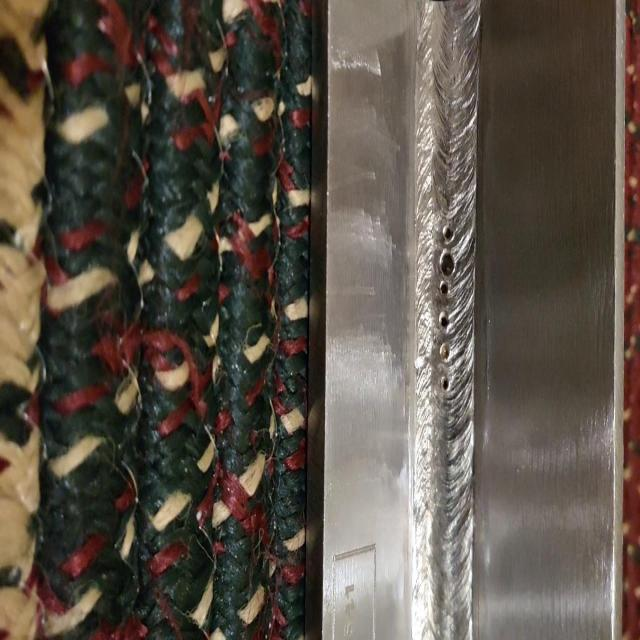Welding Line: (418, 2, 478, 640)
Workpiece: (311, 14, 623, 637)
porosity: (438, 224, 456, 390)
